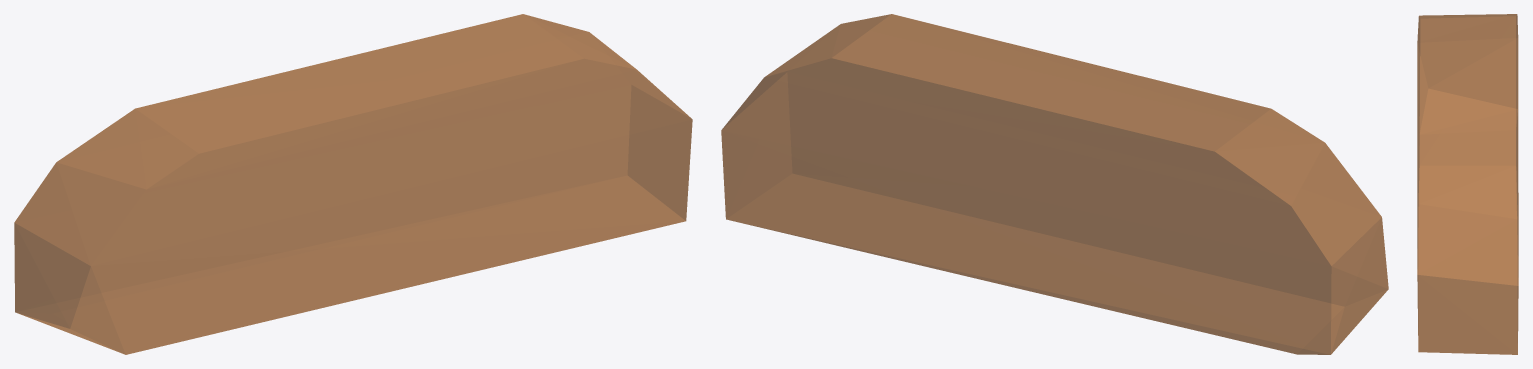
3 views of the same model, side by side, from view 1: azimuth 30°, elevation 25°; view 2: azimuth 150°, elevation 25°; view 3: azimuth 270°, elevation 25° (orthographic). The views are drawn at different scales.
Visible parts, largest first — view 1: Shape_IndexedFaceSet.023_Shape_IndexedFaceSet.16490; view 2: Shape_IndexedFaceSet.023_Shape_IndexedFaceSet.16490; view 3: Shape_IndexedFaceSet.023_Shape_IndexedFaceSet.16490.
Boxes of the visible parts, box(x1,y1,x2,y2) form: Shape_IndexedFaceSet.023_Shape_IndexedFaceSet.16490: box(14, 14, 692, 354); Shape_IndexedFaceSet.023_Shape_IndexedFaceSet.16490: box(721, 14, 1388, 354); Shape_IndexedFaceSet.023_Shape_IndexedFaceSet.16490: box(1417, 14, 1518, 354).
Size of the model in its own units: 0.19 by 0.0553 by 0.0341.
